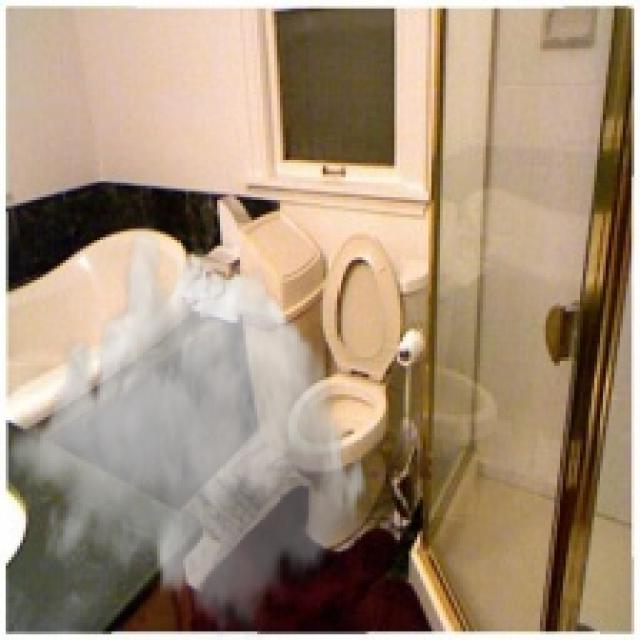Smoke: (8, 220, 374, 637)
